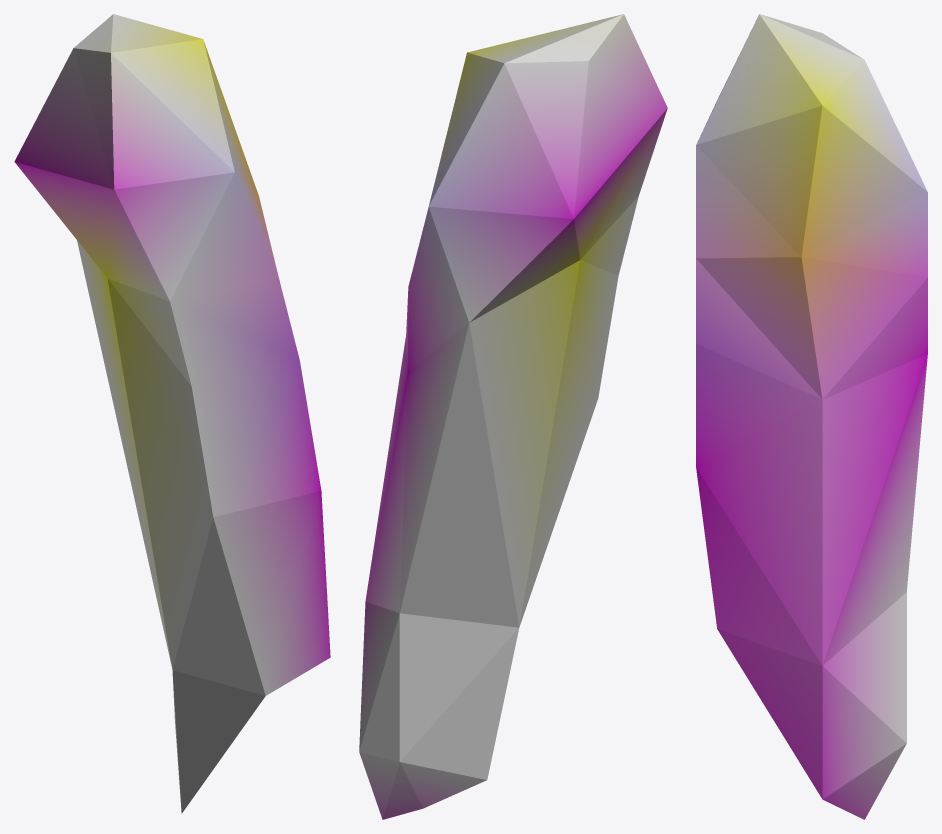
3 views of the same model, side by side, from view 1: azimuth 30°, elevation 25°; view 2: azimuth 150°, elevation 25°; view 3: azimuth 270°, elevation 25° (orthographic). The views are drawn at different scales.
Parts seen in each view (by area): view 1: model_11C3; view 2: model_11C3; view 3: model_11C3.
Part boxes in pixels (bbox=[...]): model_11C3: bbox=[14, 14, 330, 813]; model_11C3: bbox=[359, 14, 667, 819]; model_11C3: bbox=[696, 14, 927, 819].
Bounding box in the file's own units: 12 × 38 × 11.
